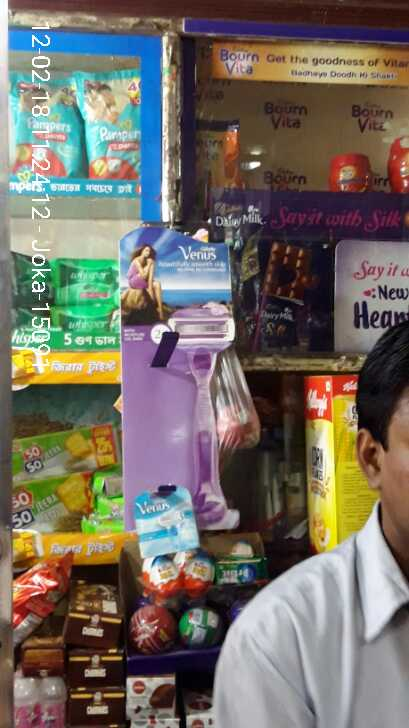beauty: (135, 488, 194, 549)
pharmacy: (9, 73, 77, 182), (75, 71, 141, 173), (56, 255, 119, 305), (56, 307, 124, 338)
